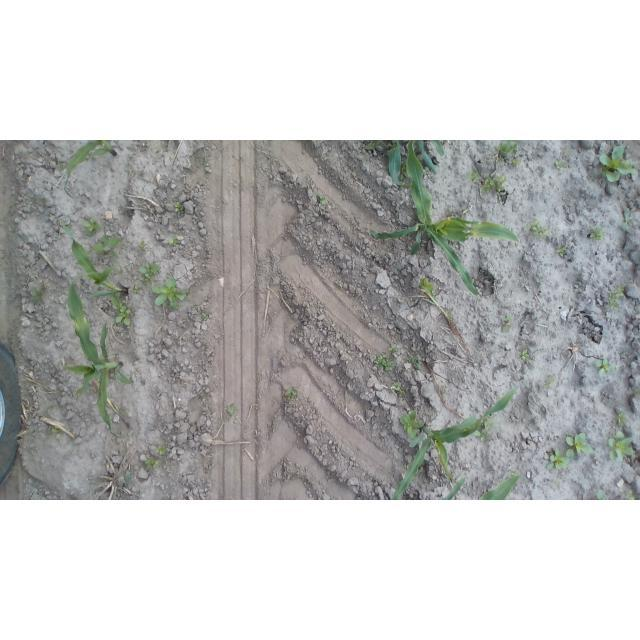Maize: (371, 141, 520, 303), (391, 383, 518, 499), (59, 271, 143, 445), (61, 222, 131, 317), (63, 141, 117, 206)
Weeds: (598, 147, 638, 187), (152, 277, 188, 313), (472, 171, 509, 201), (608, 430, 636, 463), (90, 233, 124, 259), (398, 408, 422, 438), (498, 141, 522, 170), (45, 419, 72, 444), (562, 434, 594, 455), (605, 284, 626, 315), (618, 201, 636, 232), (136, 262, 162, 283), (546, 449, 570, 471), (27, 283, 47, 309), (374, 351, 395, 374), (594, 356, 615, 378), (584, 223, 606, 242), (115, 304, 133, 327), (387, 379, 408, 398), (555, 151, 573, 173), (82, 217, 103, 235), (529, 219, 547, 239), (542, 371, 558, 392), (412, 355, 429, 374), (225, 403, 240, 420), (386, 344, 401, 360), (144, 456, 161, 470), (314, 192, 331, 206), (616, 411, 630, 427), (520, 346, 533, 363), (556, 242, 569, 258), (285, 387, 300, 400), (136, 238, 148, 254), (154, 445, 167, 459), (622, 487, 635, 499), (168, 237, 180, 250), (502, 312, 513, 325), (596, 488, 608, 499), (132, 282, 142, 295), (173, 201, 184, 212)
